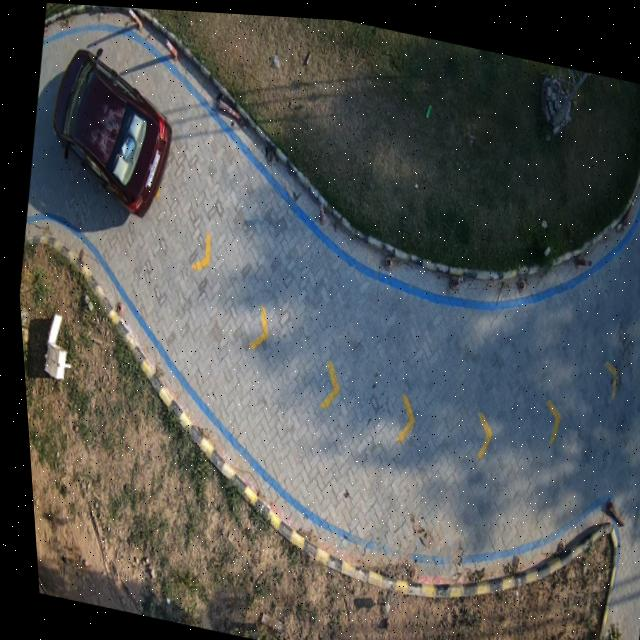car: (51, 46, 170, 215)
